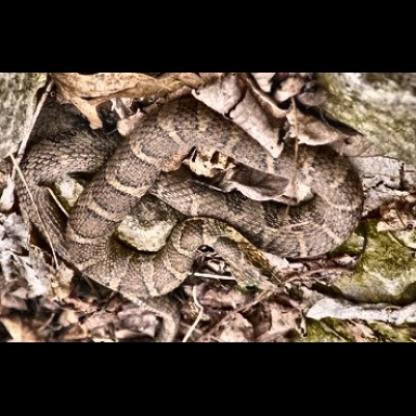Snake: (10, 87, 410, 317)
